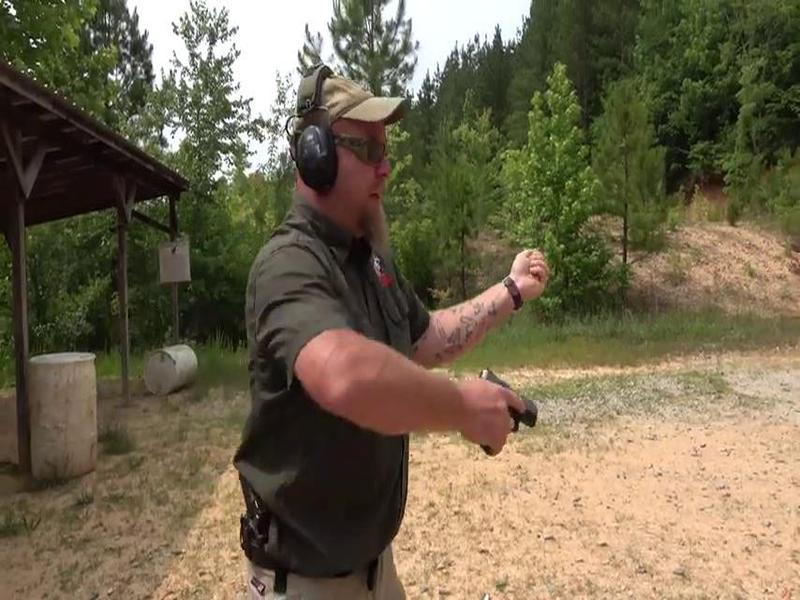Pistola: (456, 341, 562, 465)
